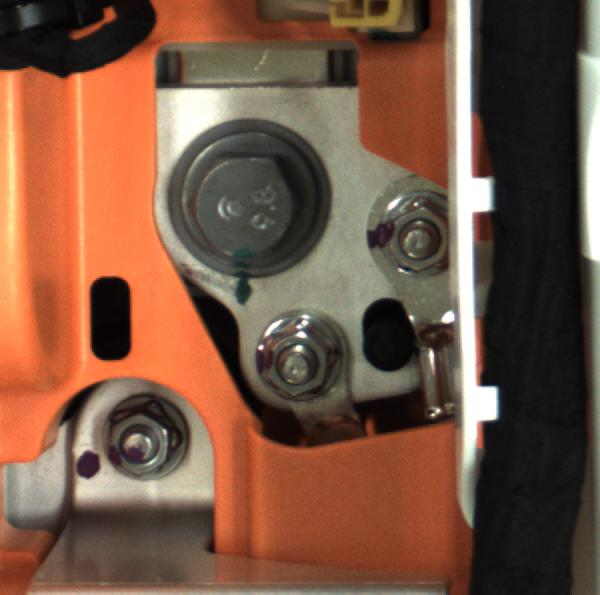nut_b: (162, 118, 326, 268)
screw_s: (353, 185, 471, 283), (241, 307, 345, 408), (97, 391, 184, 490)
